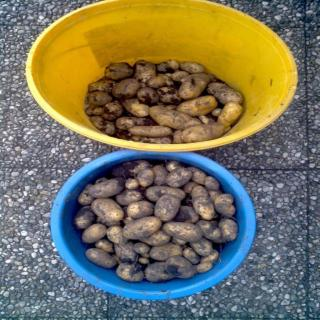Potato: (73, 159, 238, 283), (84, 57, 243, 144)
